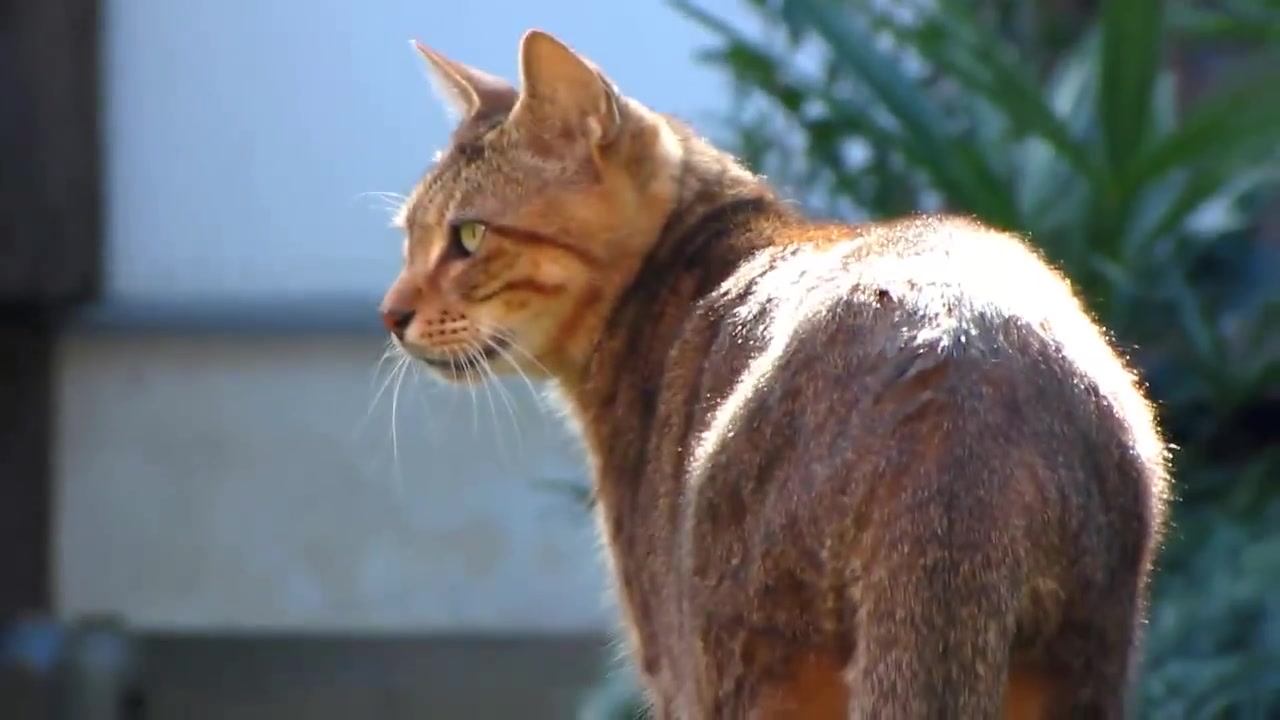cat: (375, 31, 1176, 720)
